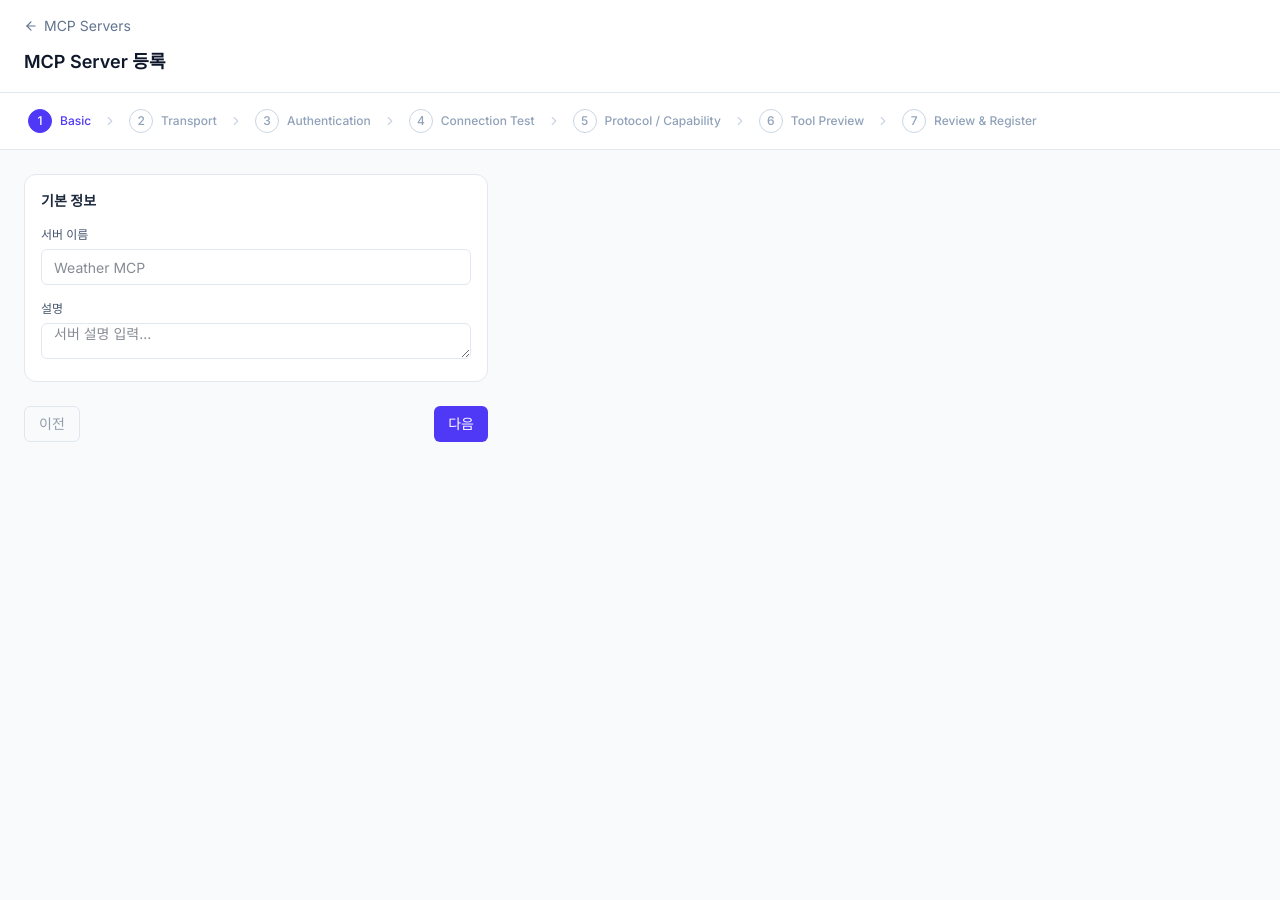
Scenario: MCPServerNew — API wizard › shows Current MCP protocol info without connection test gate
Click the button "다음": [461, 424] box [434,406,488,442]
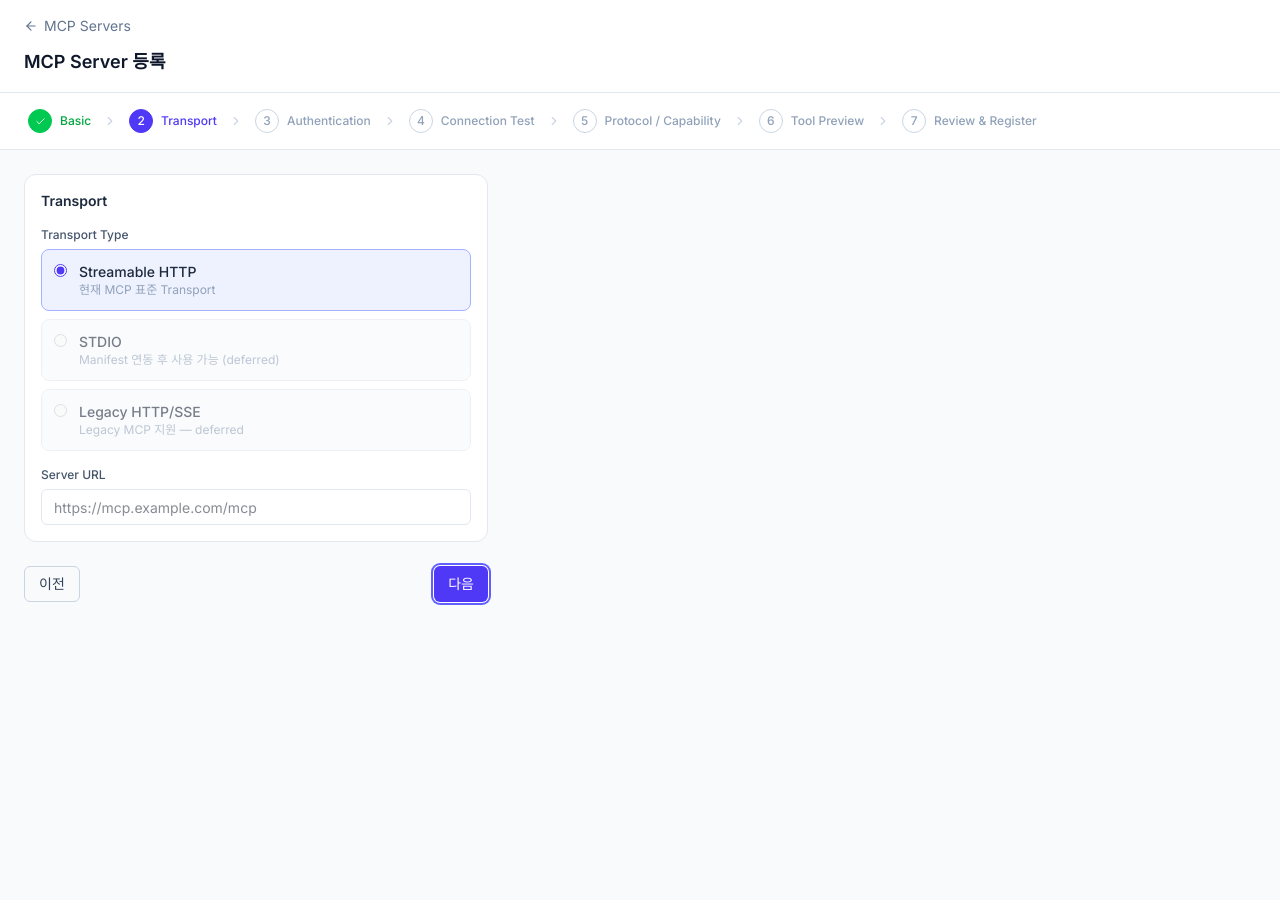
Click the button "다음": [461, 584] box [434,566,488,602]
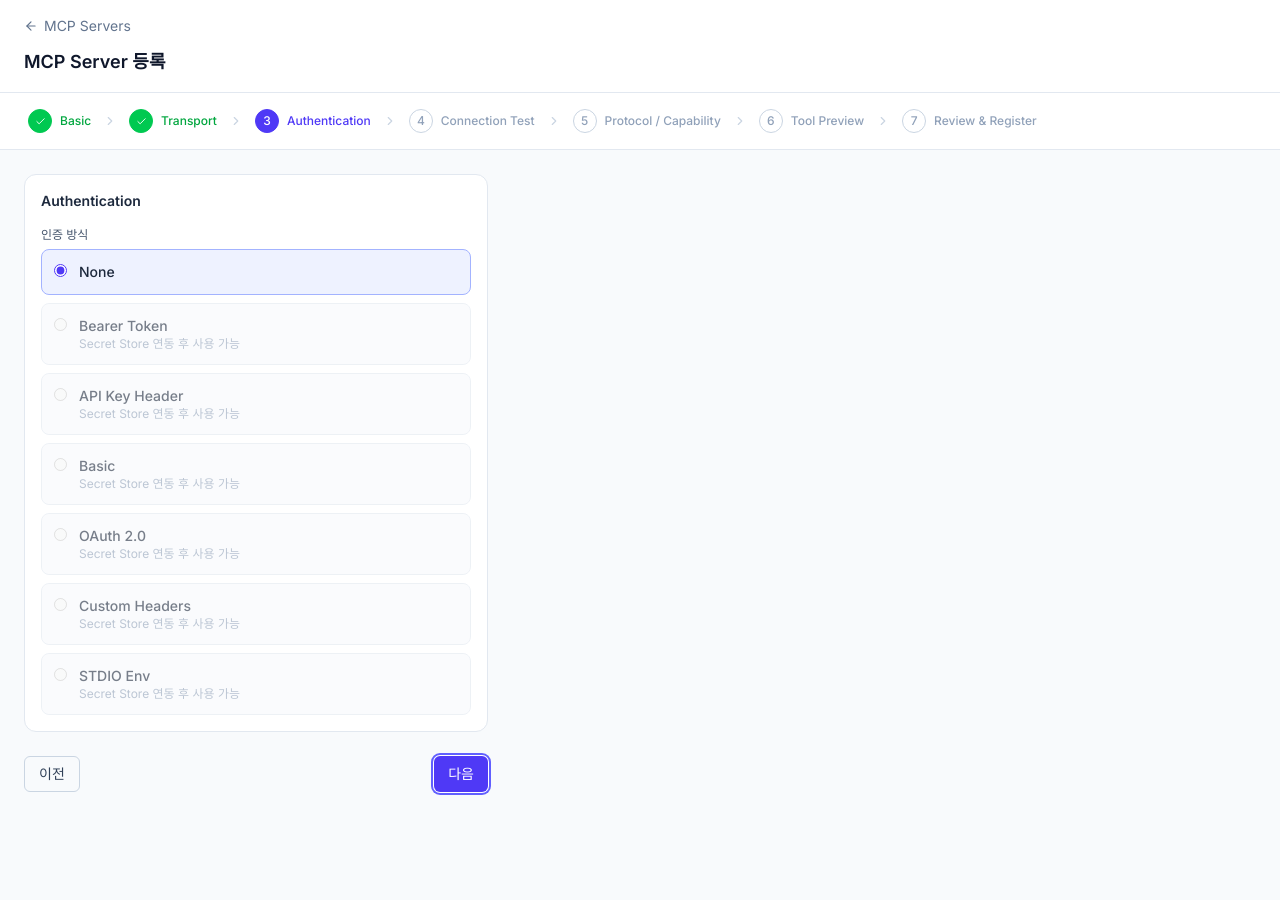
Click the button "다음": [461, 774] box [434,756,488,792]
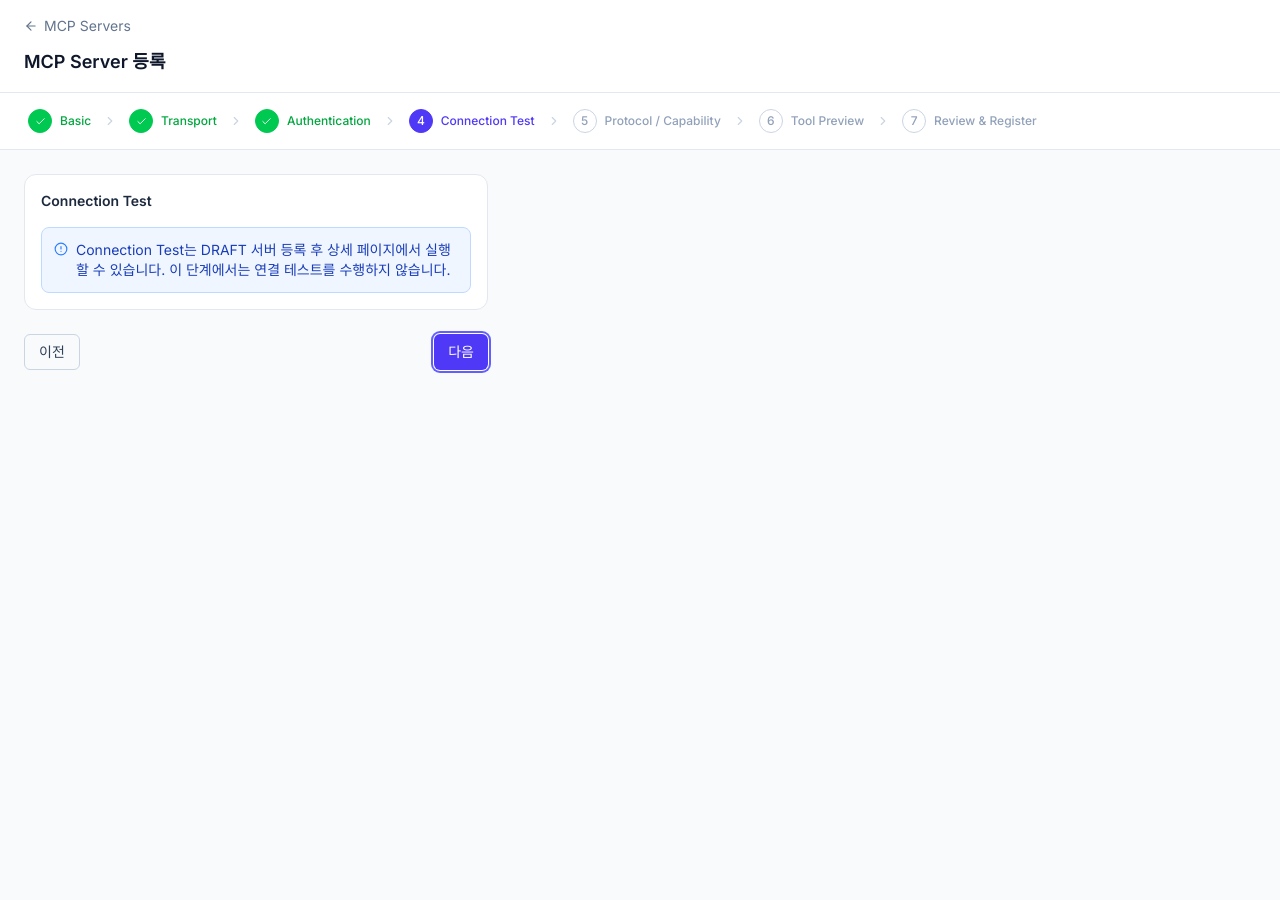
Result: the text "Connection Test는 DRAFT 서버 등록 후" is shown at [76,241,451,278]
Click the button "다음": [461, 352] box [434,334,488,370]
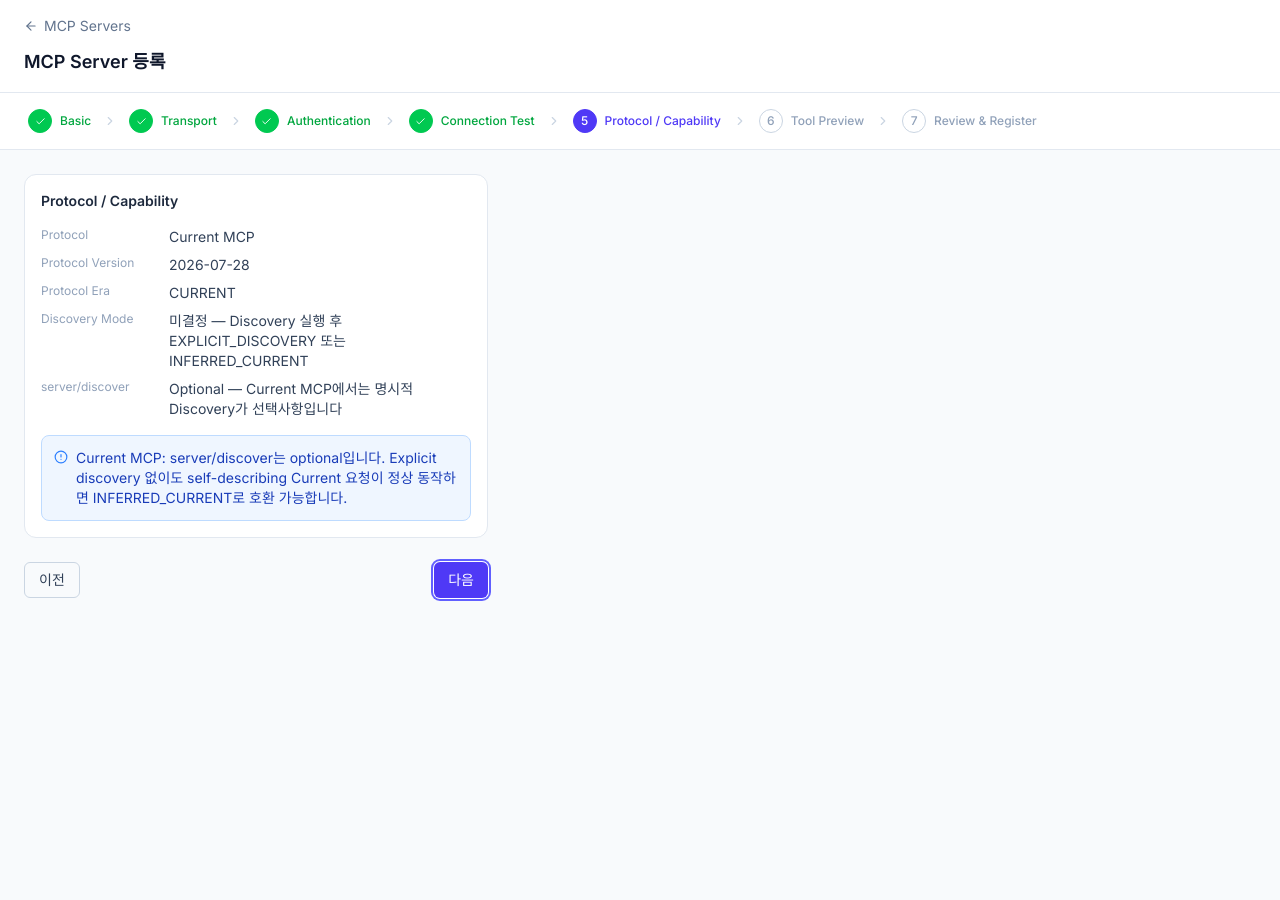
Result: the text "2026-07-28" is shown at [169,255,250,275]
Result: the text "server/discover는 optional" is shown at [76,449,456,506]
